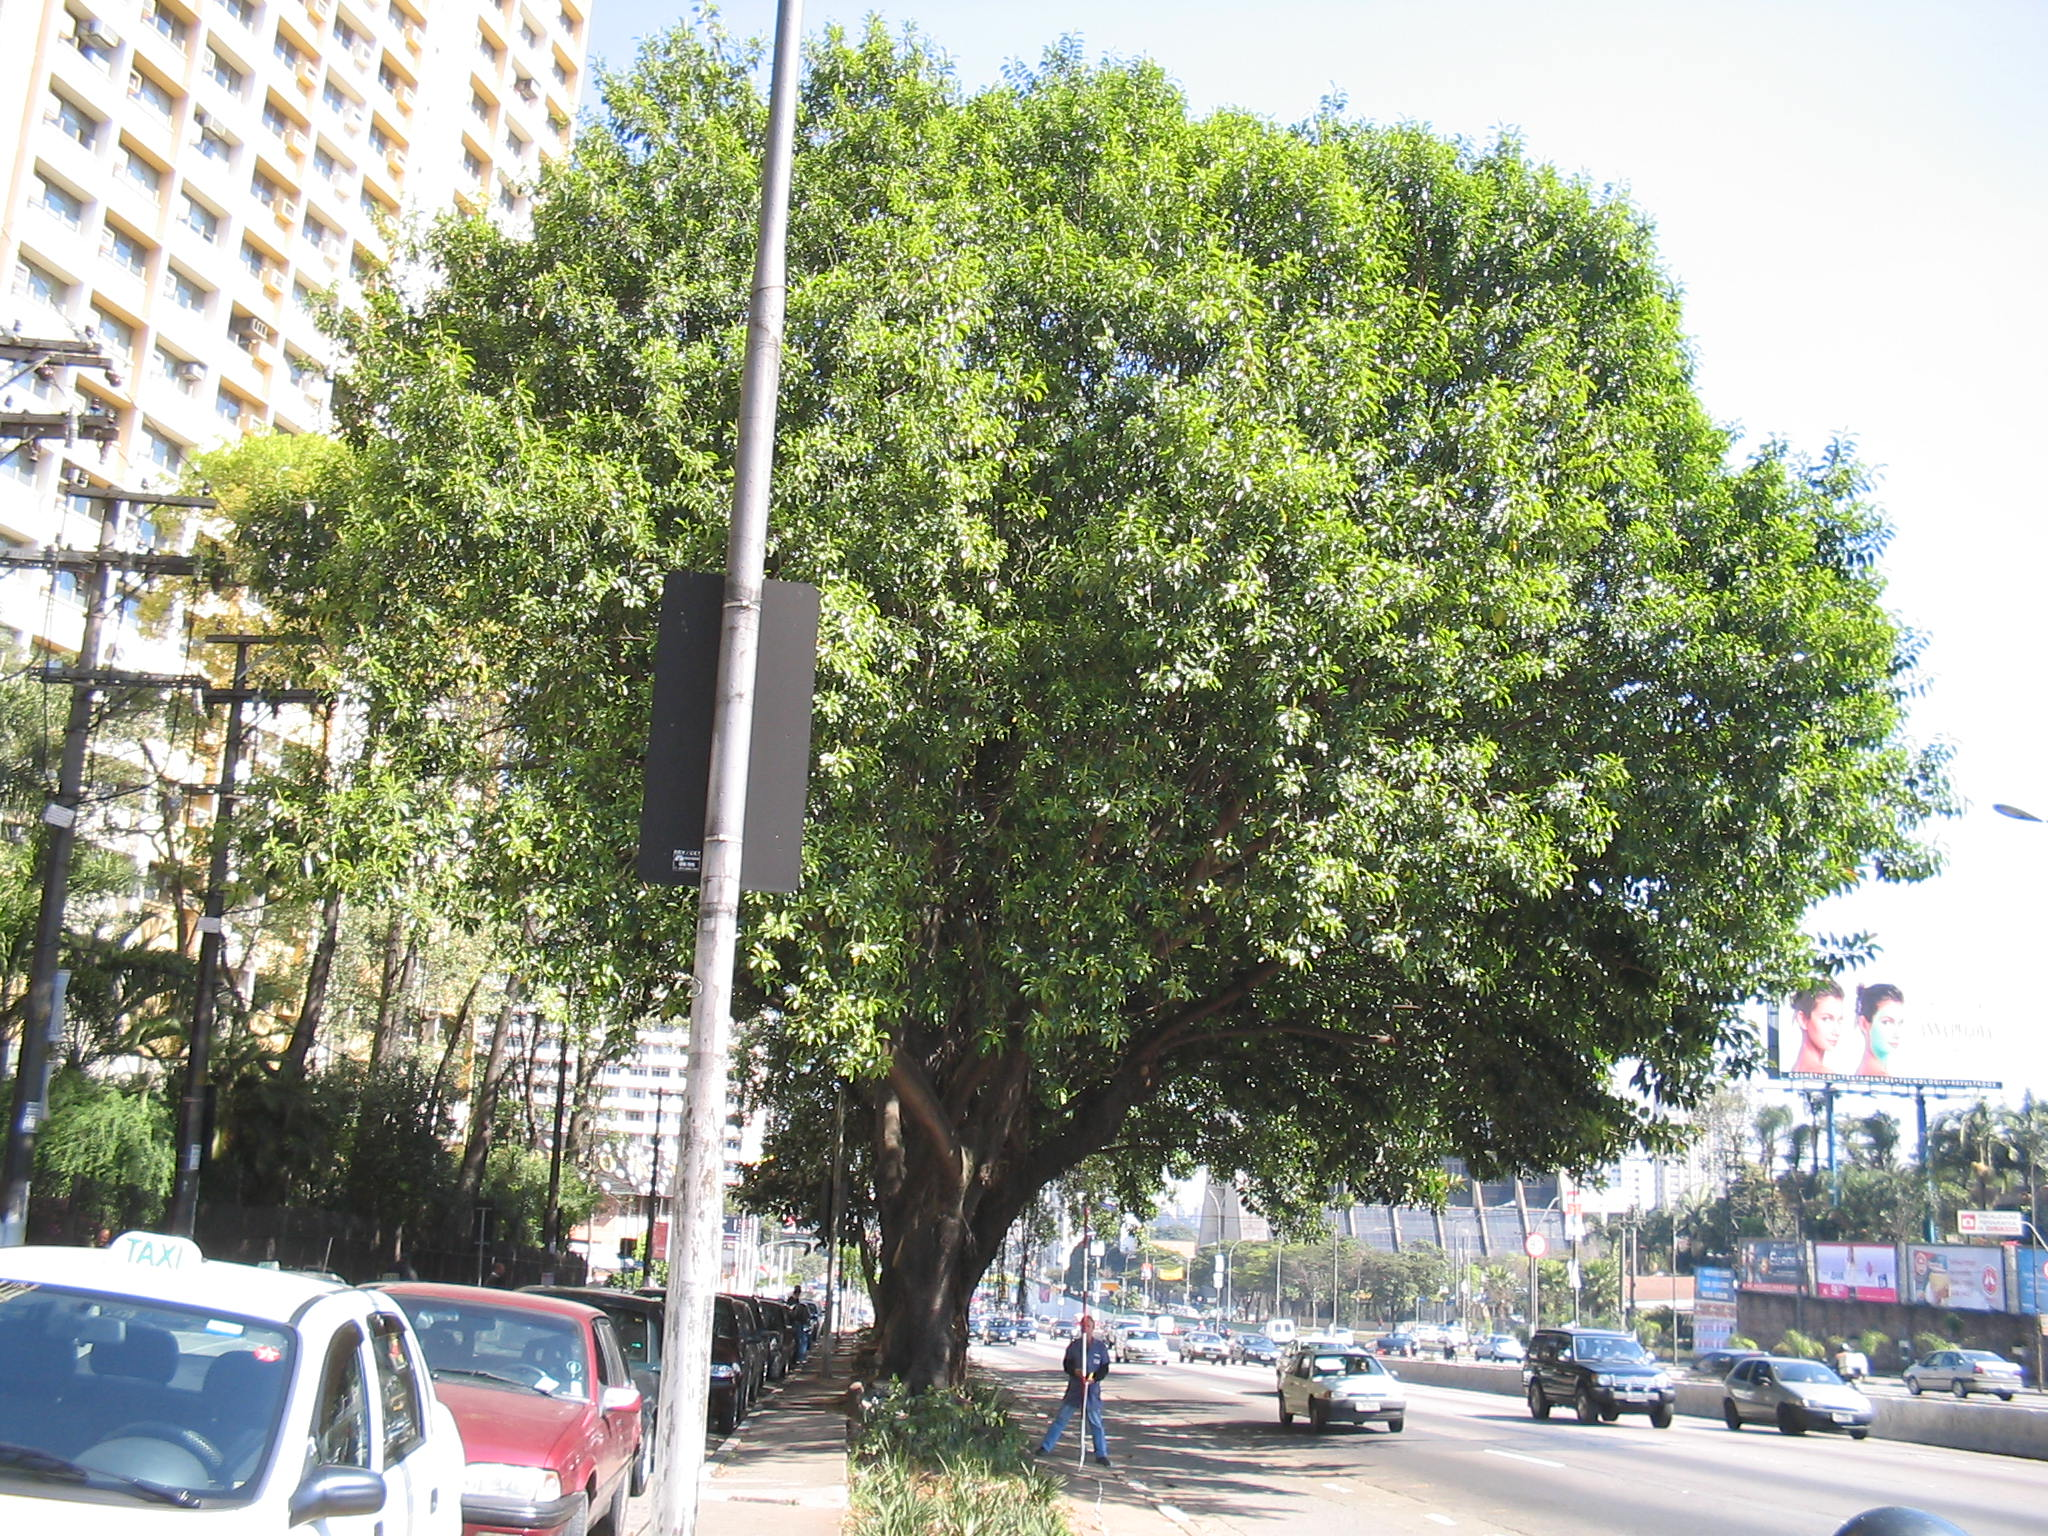crown: (177, 6, 1969, 1244)
stem: (839, 1267, 989, 1436)
stick: (1055, 1205, 1118, 1462)
tree: (171, 3, 1969, 1438)
